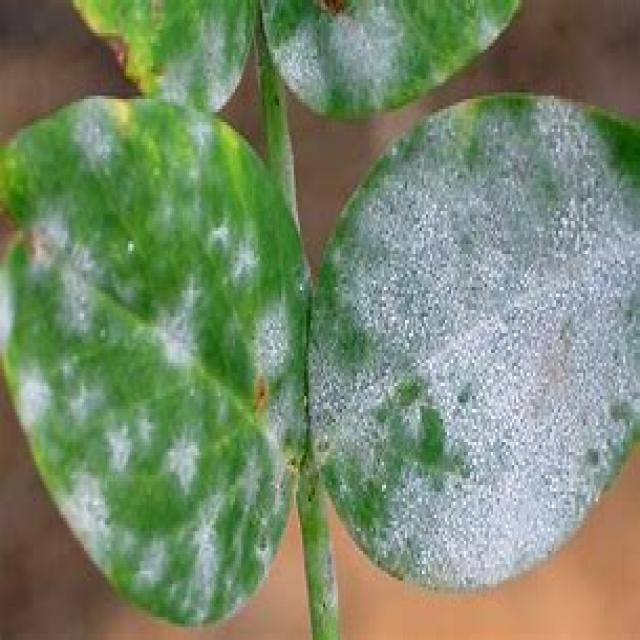Leaf_Mold: (0, 23, 287, 590), (334, 132, 618, 606)
